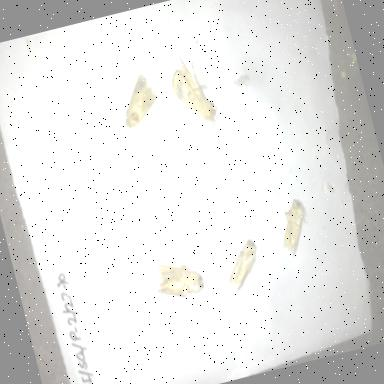abw: (104, 59, 175, 160), (160, 42, 226, 138), (140, 248, 213, 316), (266, 192, 320, 265), (216, 231, 270, 297)
